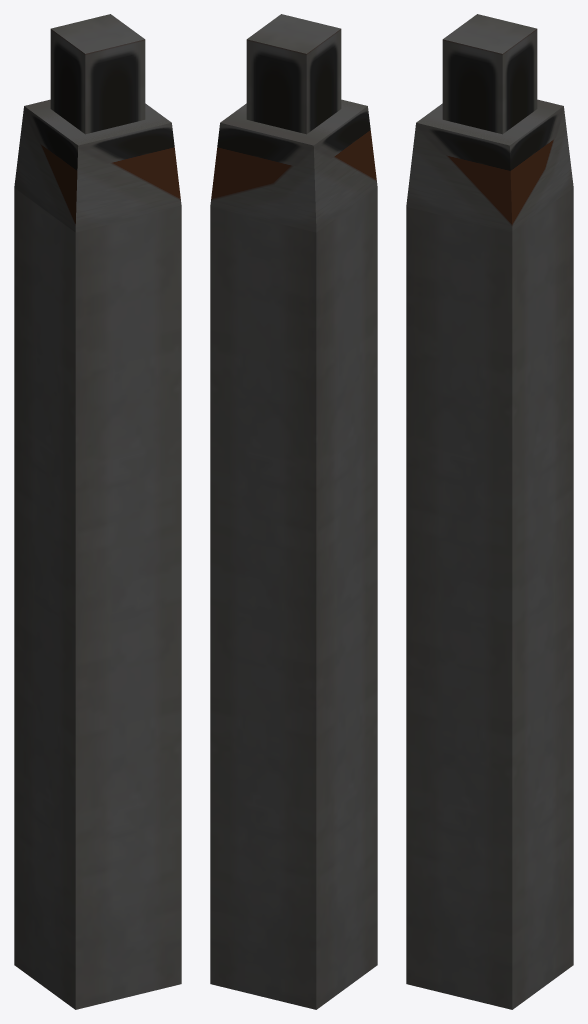
Rendered from Chimney_5.fbx.
3 views of the same model, side by side, from view 1: azimuth 30°, elevation 25°; view 2: azimuth 150°, elevation 25°; view 3: azimuth 330°, elevation 25° (orthographic).
Parts seen in each view (by area): view 1: Chimney 5_col, Chimney 5; view 2: Chimney 5_col, Chimney 5; view 3: Chimney 5_col, Chimney 5.
Boxes of the visible parts, bbox=[...] form: Chimney 5_col: bbox=[14, 14, 181, 1009]; Chimney 5: bbox=[25, 100, 169, 144]; Chimney 5_col: bbox=[210, 14, 377, 1009]; Chimney 5: bbox=[220, 100, 366, 144]; Chimney 5_col: bbox=[406, 14, 573, 1009]; Chimney 5: bbox=[417, 100, 562, 144].
Bounding box in the file's own units: 106 × 898 × 106.
